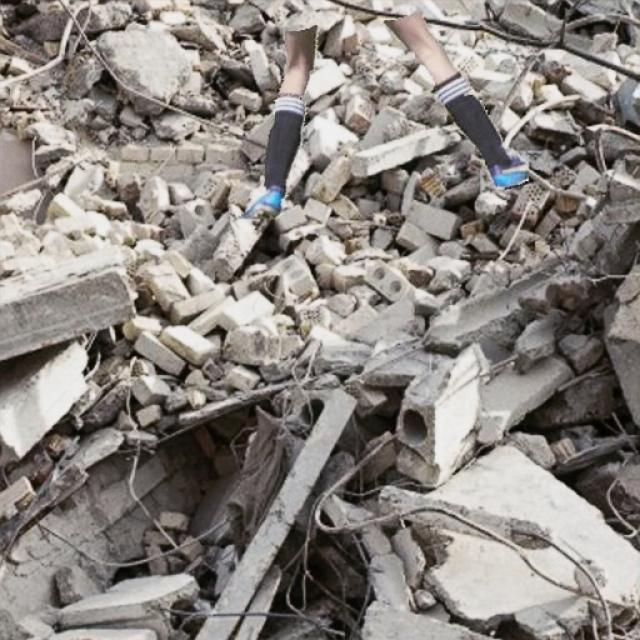Person in Rubble: (238, 12, 528, 218)
